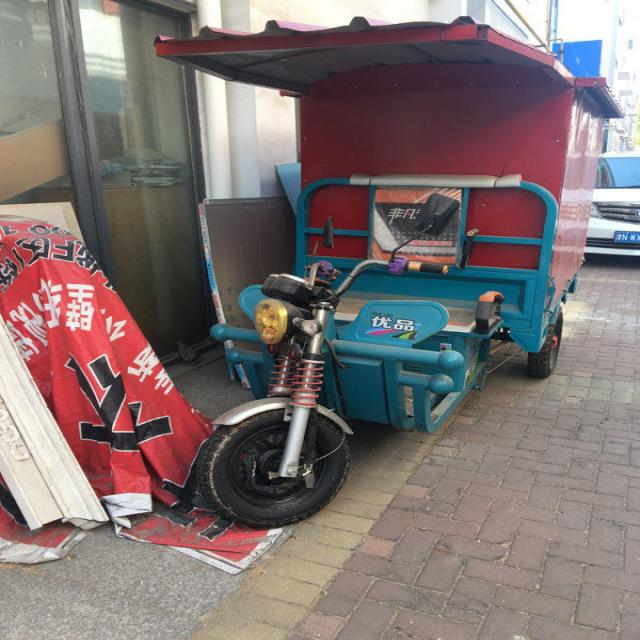car: (583, 150, 639, 259)
tricycle: (197, 176, 582, 530)
